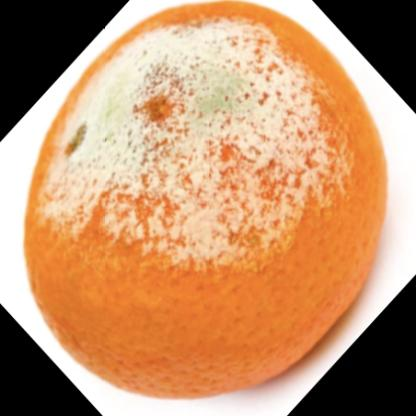rotten: (22, 4, 386, 400)
